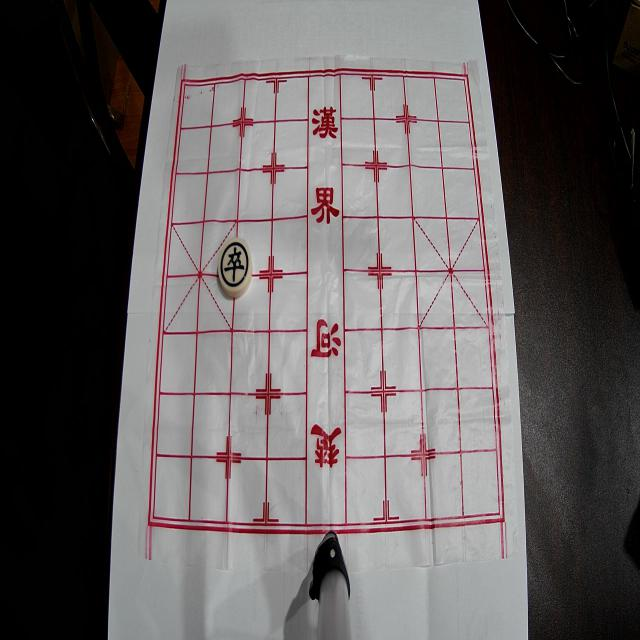black-soldier: (218, 238, 252, 298)
